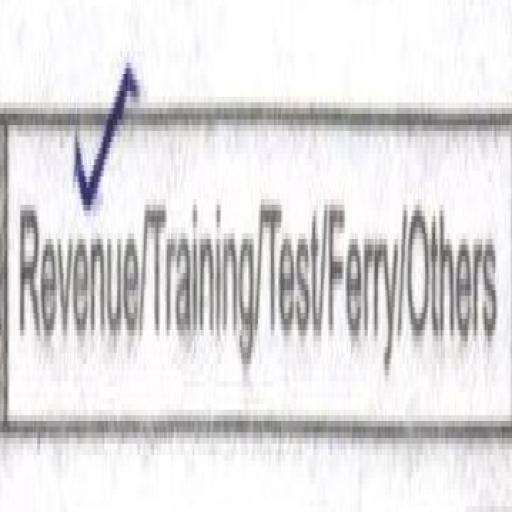check: (12, 45, 142, 430)
